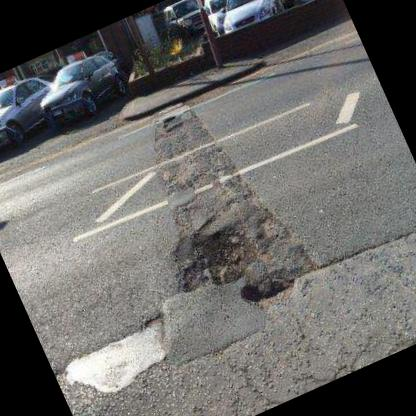pothole: (158, 204, 270, 301), (235, 262, 299, 314), (158, 110, 186, 138)
